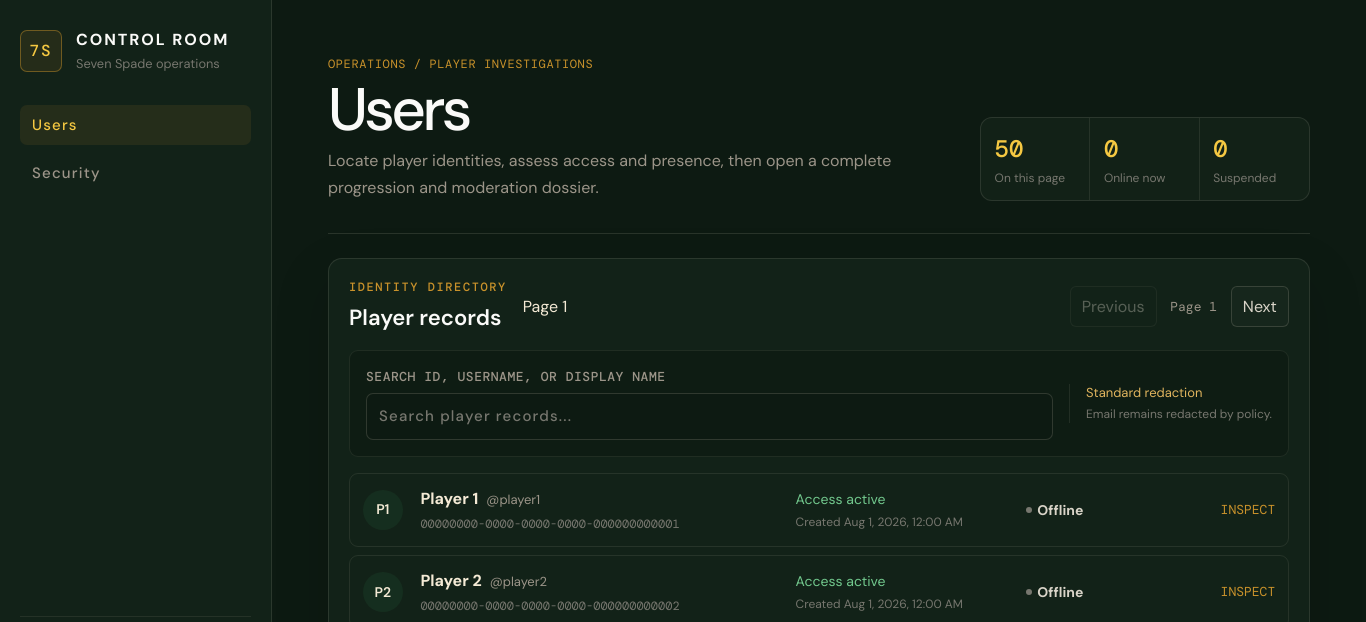
Test: operator opens user detail and advances user pagination
Step 1. Click the link "Player 1 @player1" → click(819, 510), box x1=349 y1=473 x2=1289 y2=547
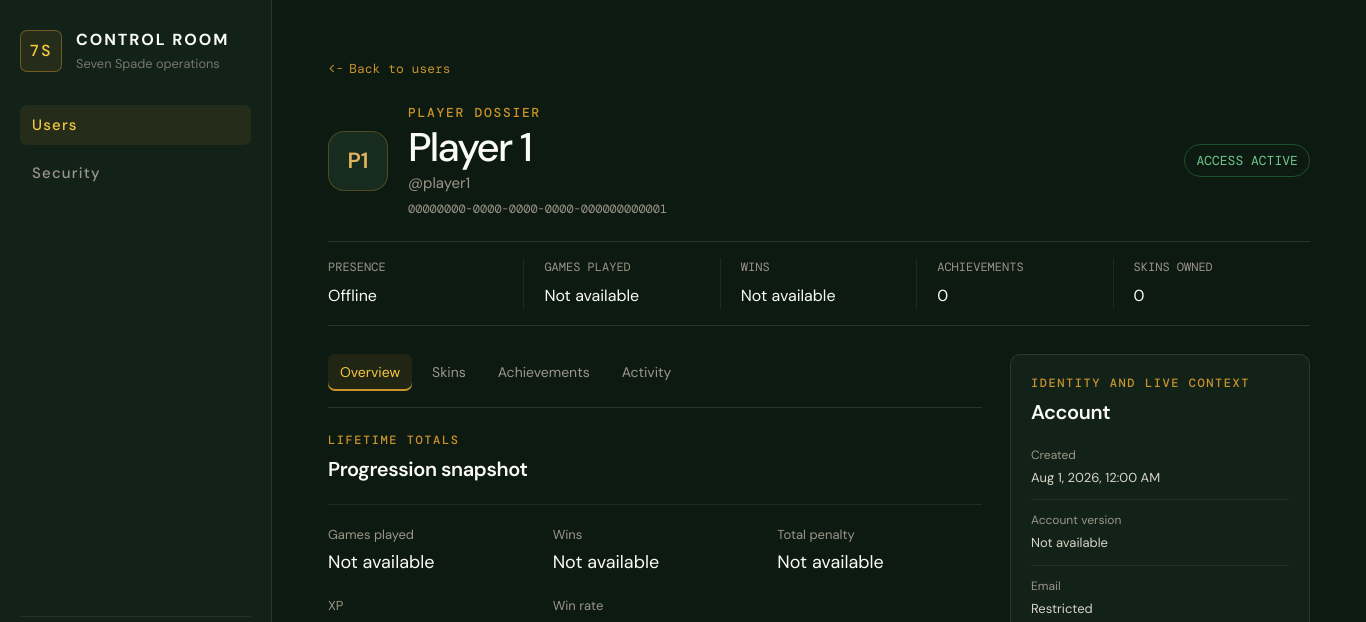
Expected: the heading "Player 1" is shown, x1=408 y1=121 x2=531 y2=173
Step 2. Click the link "Back to users" → click(400, 68), box x1=349 y1=60 x2=451 y2=77
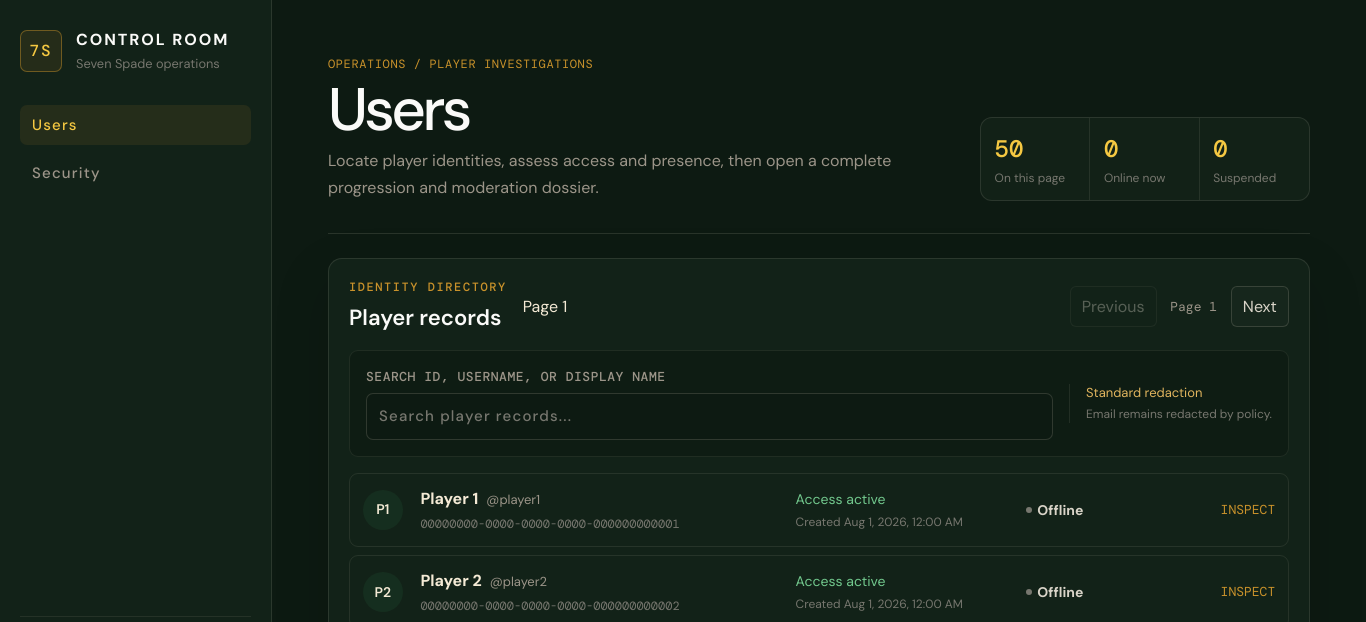
Result: the button "Next" is enabled
Step 3. Click the button "Next" → click(1260, 307), box x1=1231 y1=286 x2=1289 y2=327
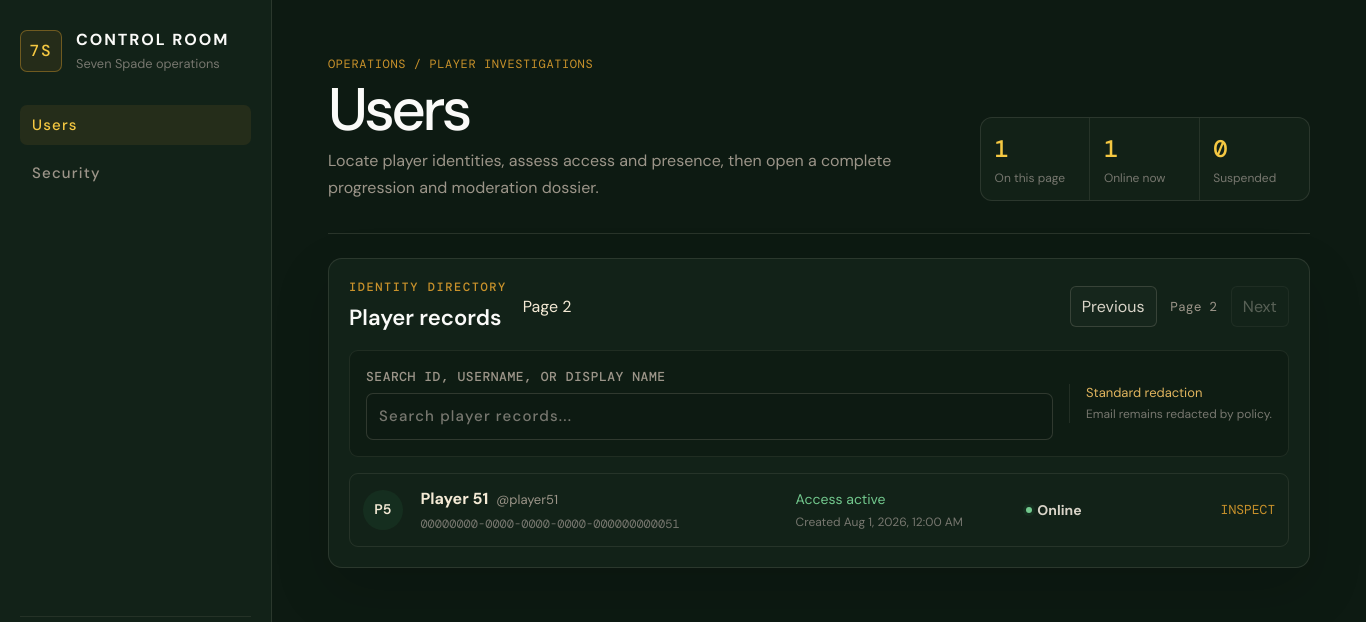
Result: the link "Player 51 @player51" is shown at x1=349 y1=473 x2=1289 y2=547
